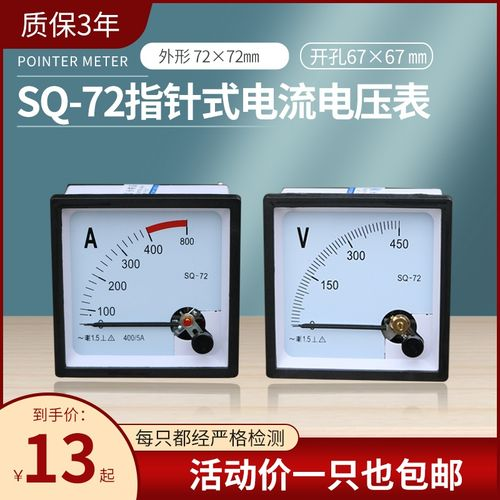pointer: (60, 204, 229, 366), (273, 205, 439, 369)
